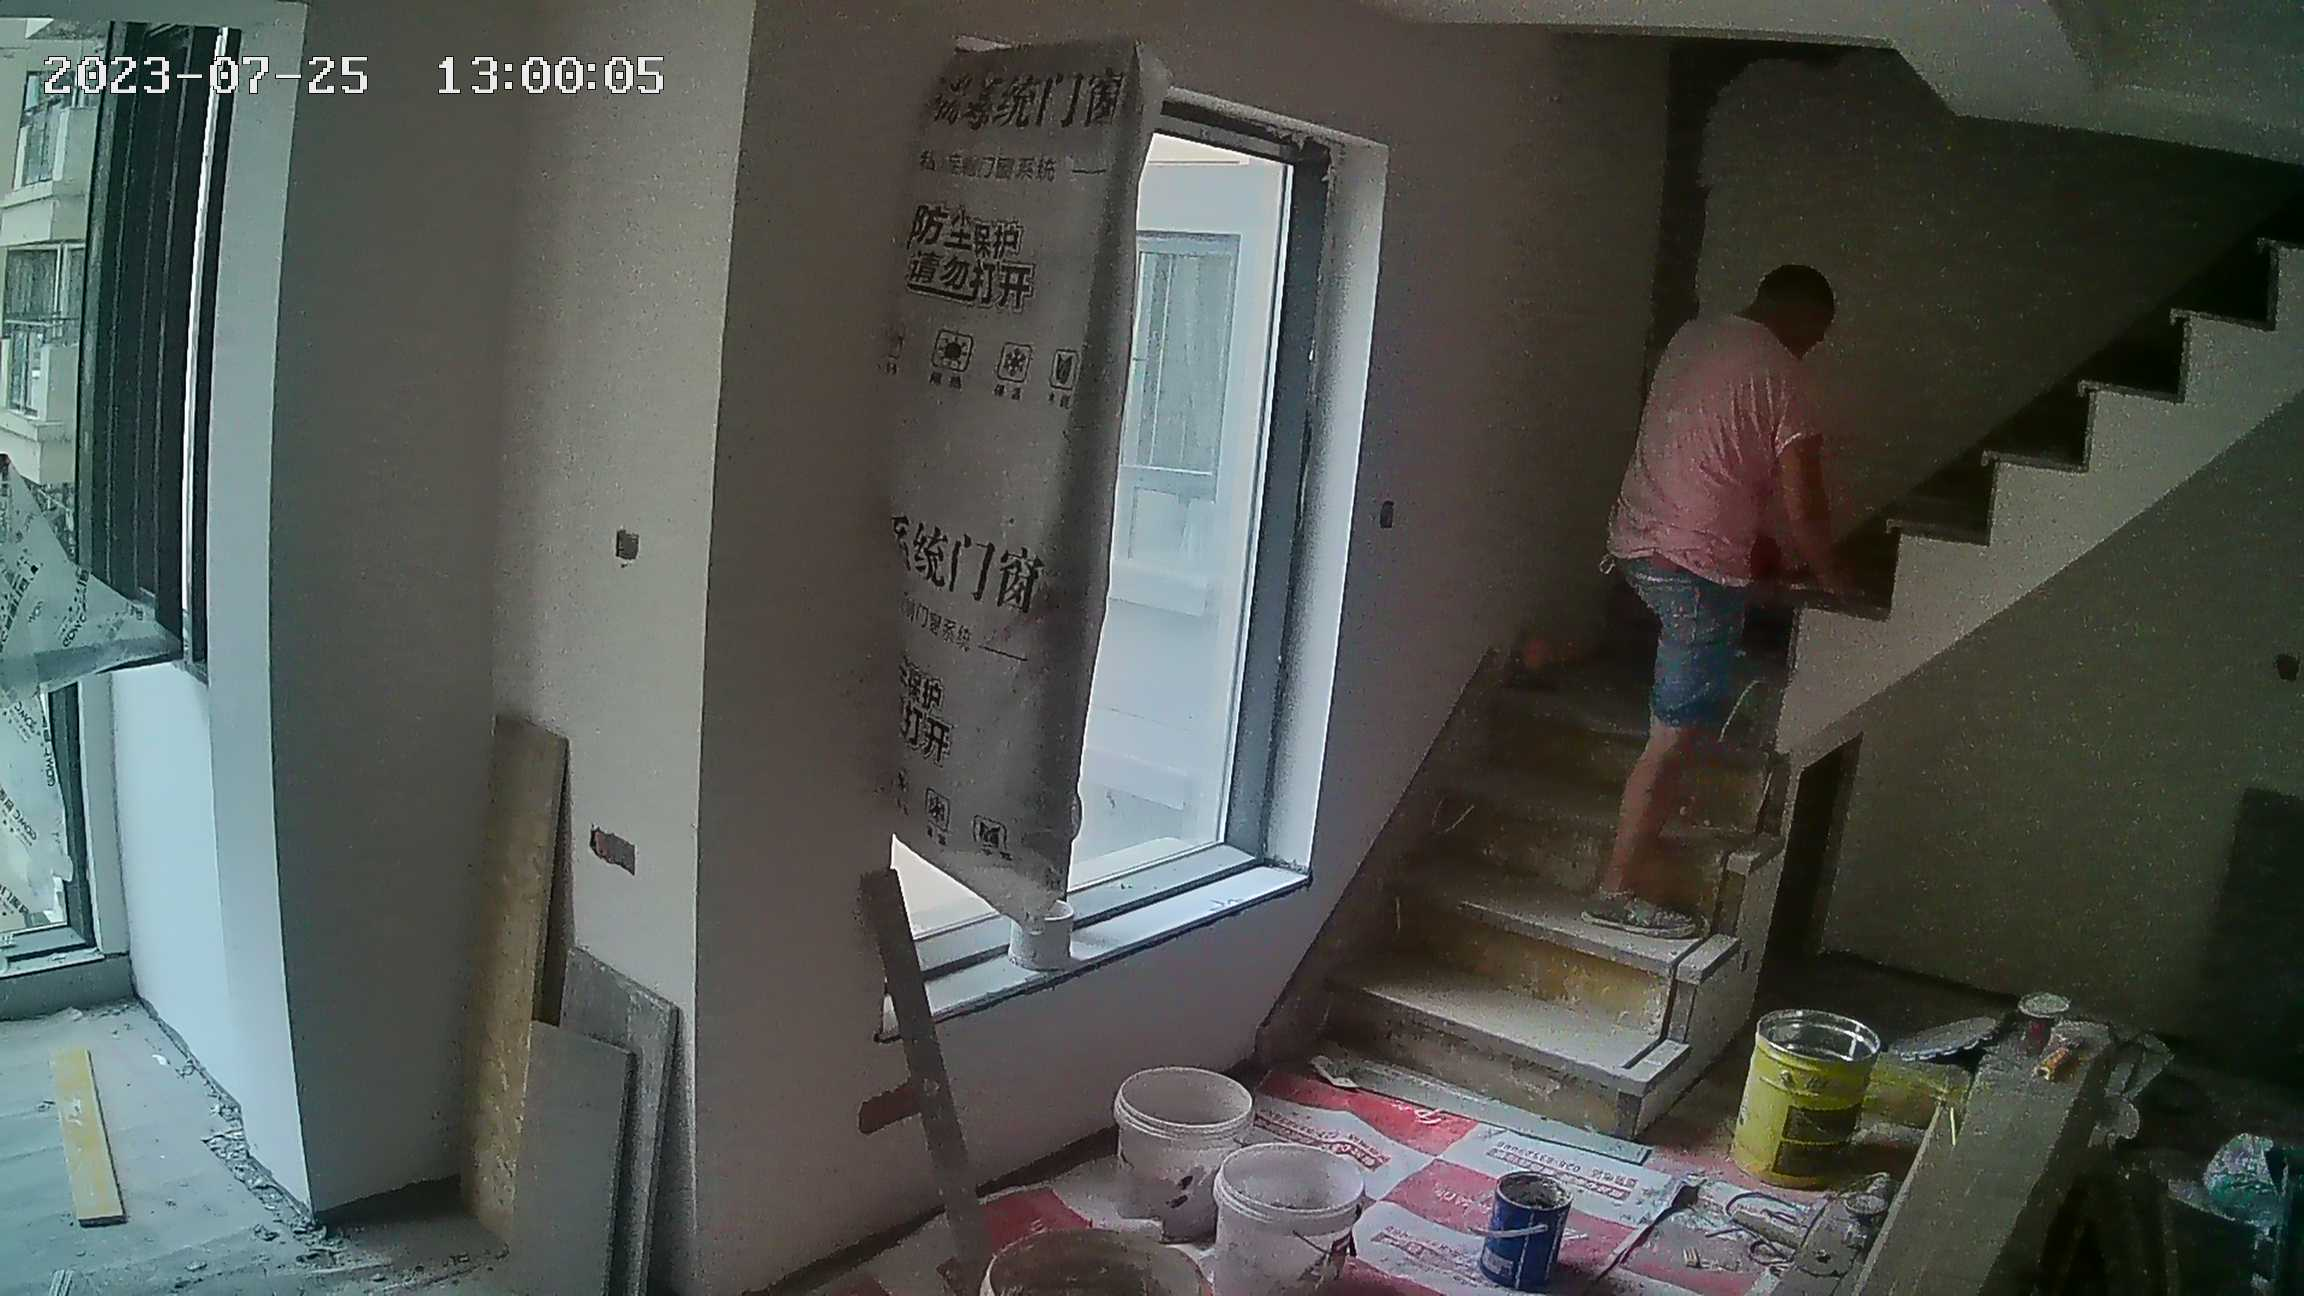people: (1607, 268, 1845, 933)
window: (929, 68, 1281, 938), (2, 19, 208, 981)
